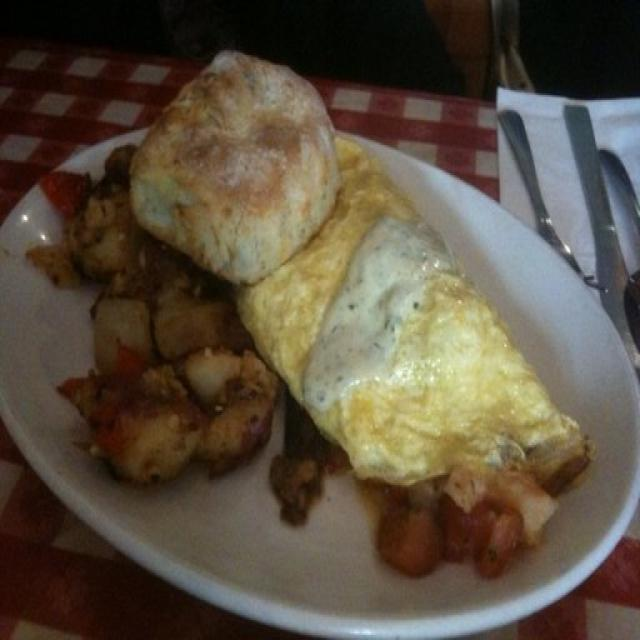telur_ayam_dadar: (237, 126, 602, 496)
